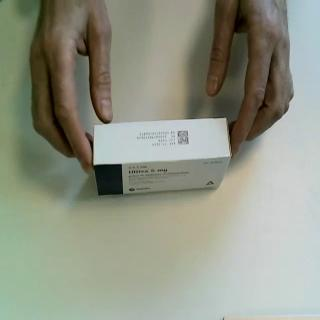ultiva5mg: (93, 117, 234, 198)
